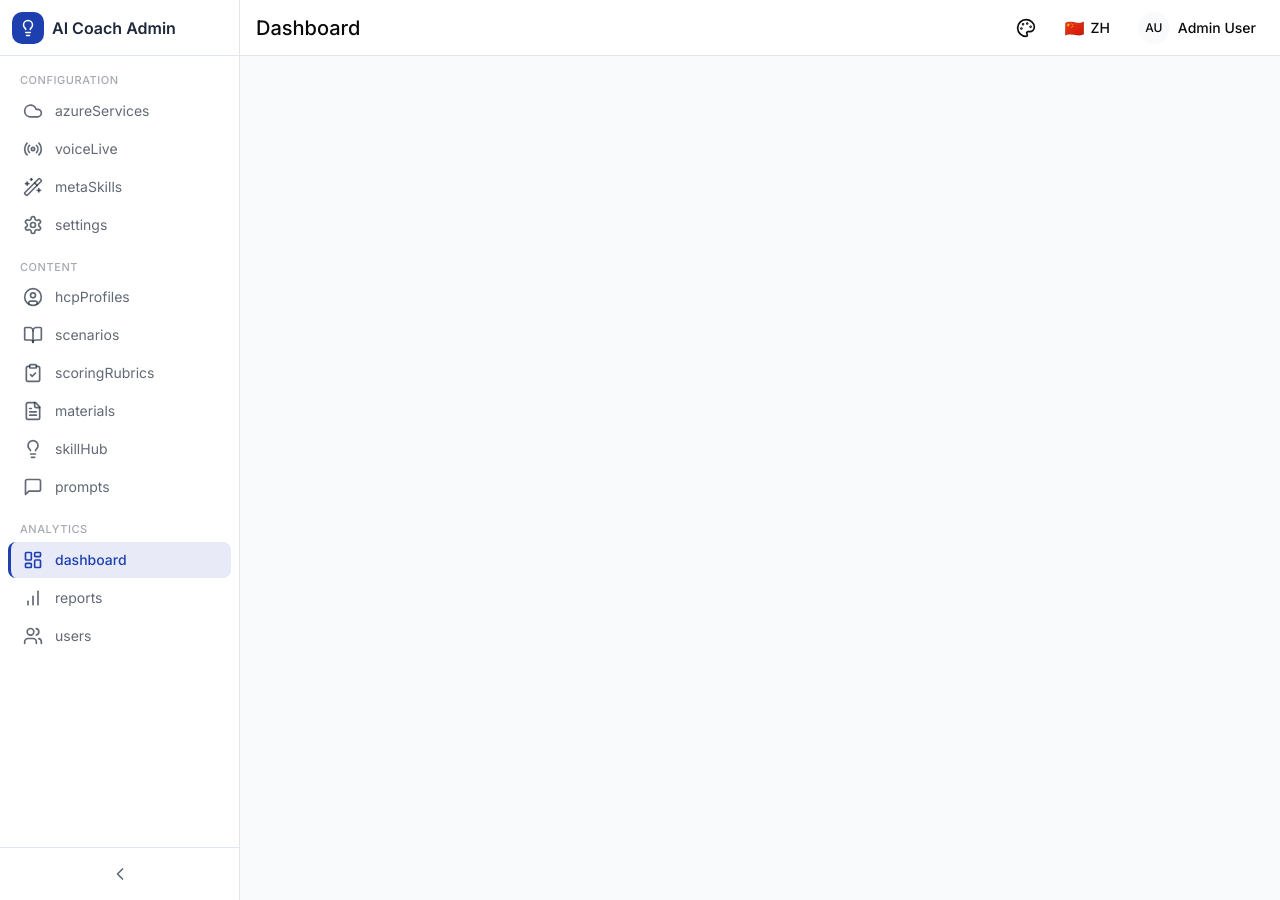
Test case: AdminLayout › renders the user dropdown with profile and logout items
Click the button "AU Admin User" at (1197, 28), box [1130,10,1264,46]
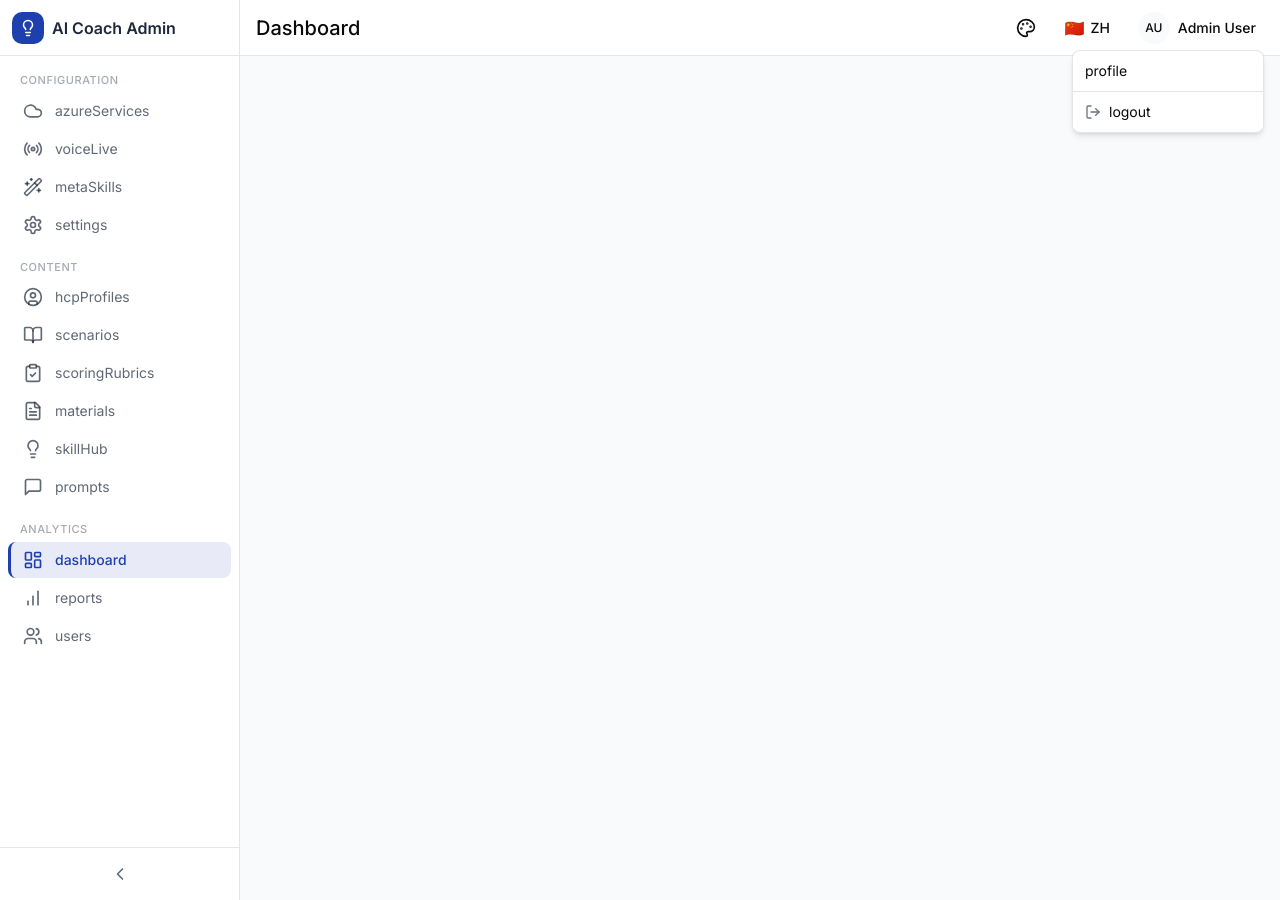
Now the menu item "profile" is shown, box [1085,62,1127,79]
Now the menu item "logout" is shown, box [1085,103,1151,120]
